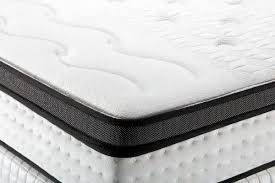bed-matress: (1, 1, 274, 181)
